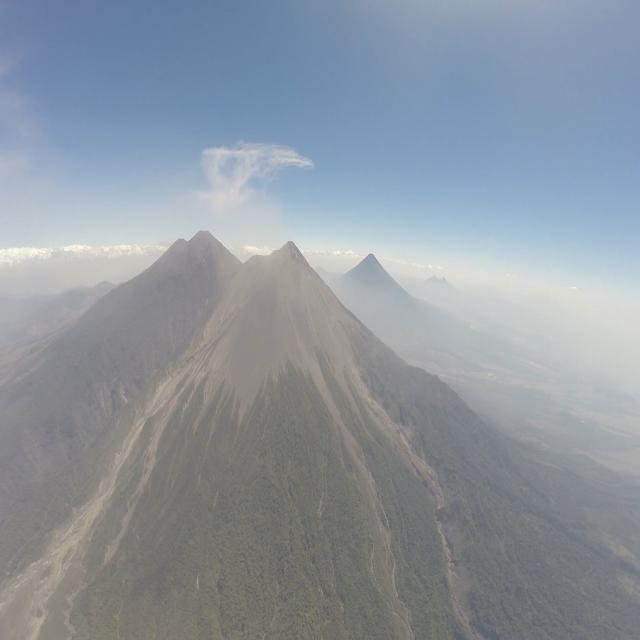Summit: (271, 238, 311, 268)
